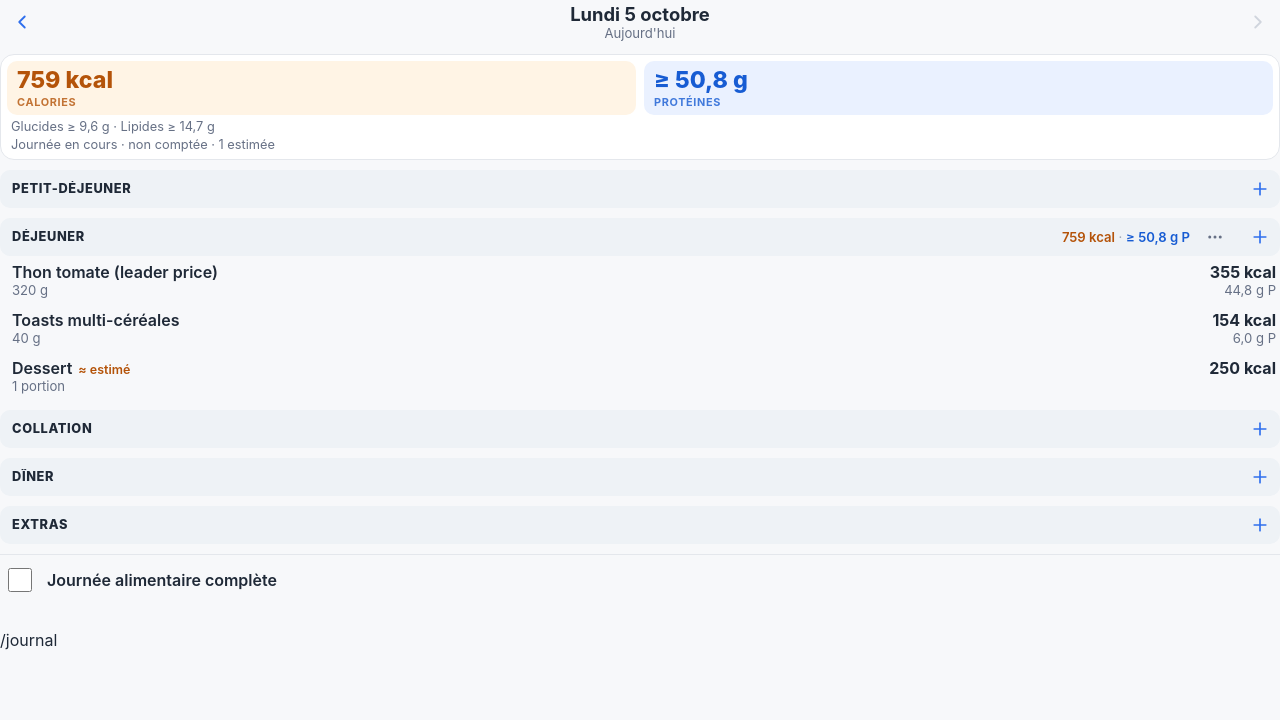
Test: enregistrer un repas consommé comme repas favori › ••• du Déjeuner : quantités totales (thons regroupés), estimation citée et non reprise ; nom obligatoire ; repas habituel sans Extras
This screenshot has width=1280, height=720.
Click the button named "Actions : Déjeuner" at (1215, 237), box [1198, 218, 1232, 256]
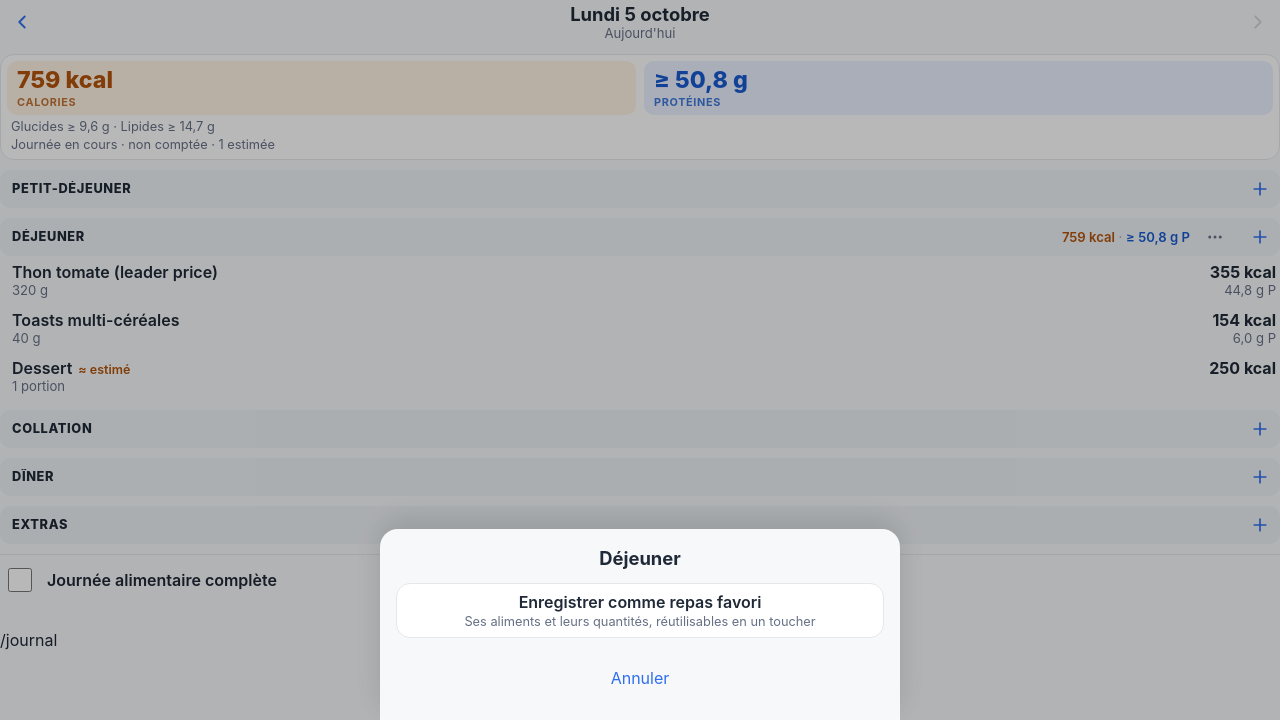
Click the button "Enregistrer comme repas favori" at (640, 610), box [396, 583, 884, 638]
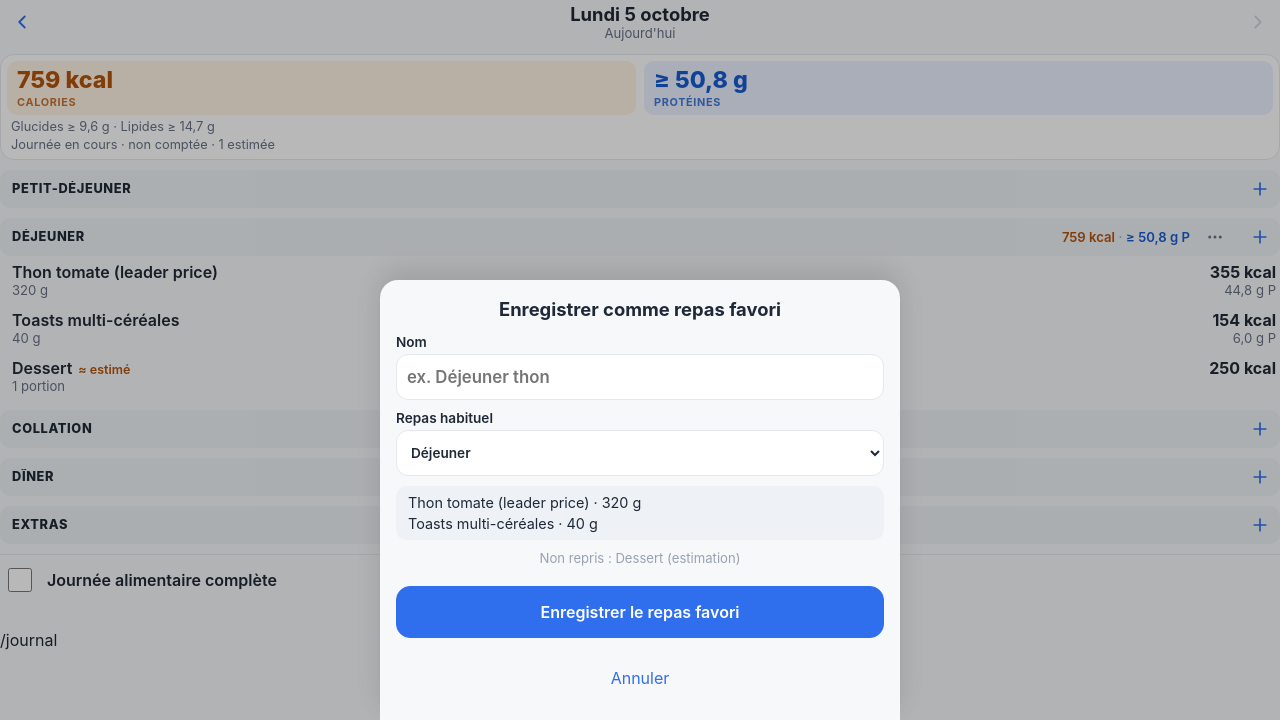
Expected: the list item "Thon tomate (leader price) · 320 g" is shown, [408, 494, 641, 511]
Expected: the list item "Toasts multi-céréales · 40 g" is shown, [408, 515, 598, 532]
Expected: the text "Non repris : Dessert (estimation)" is shown, [540, 550, 740, 566]
Click the button "Enregistrer le repas favori" at (640, 612), box [396, 586, 884, 638]
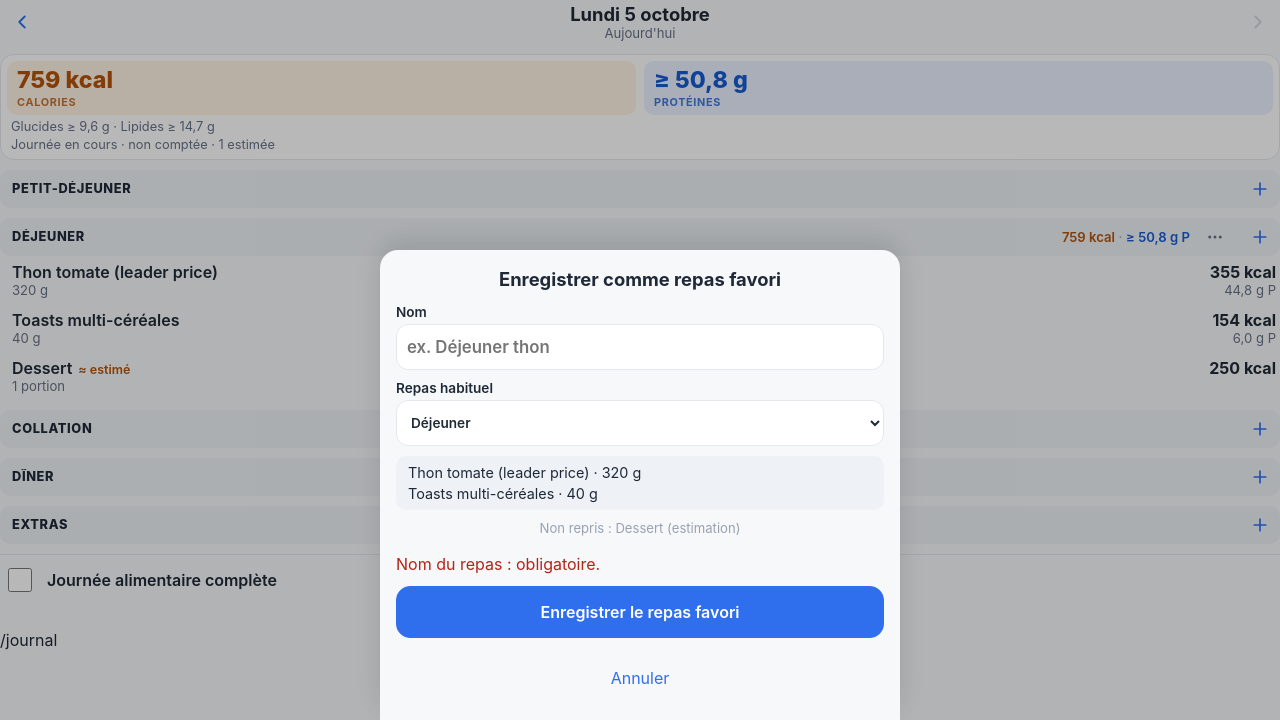
Expected: the message reads "Nom du repas : obligatoire.", [396, 554, 600, 574]
Type "Déjeuner thon" into the field named "Nom du repas favori" at (640, 347), box [396, 324, 884, 370]
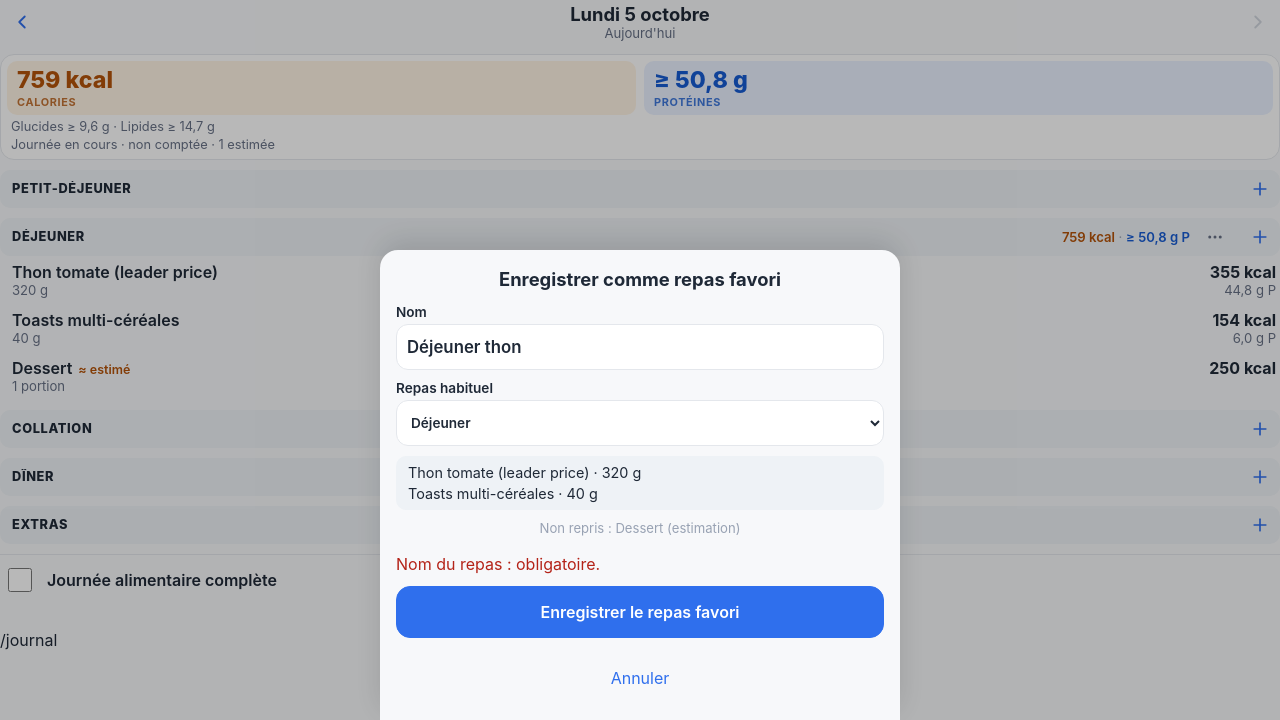
Click the button "Enregistrer le repas favori" at (640, 612), box [396, 586, 884, 638]
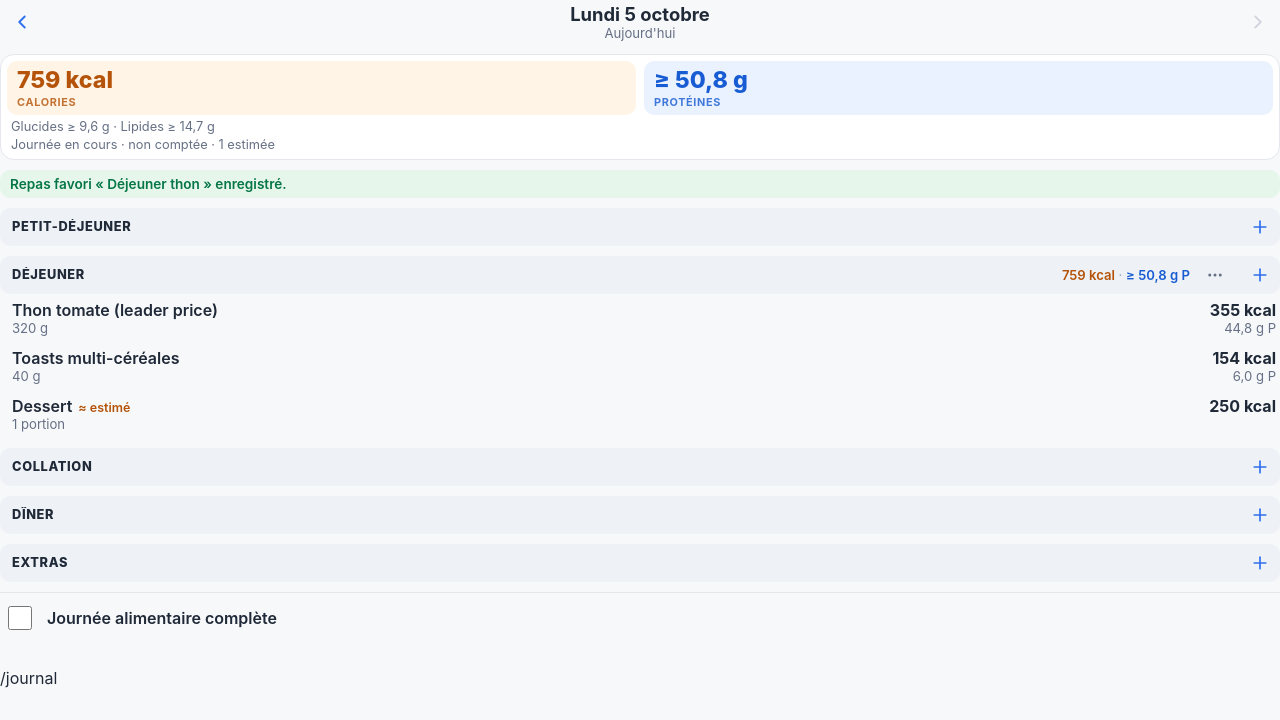
Expected: the text "Repas favori « Déjeuner thon » enregistré." is shown, [0, 170, 1279, 198]
